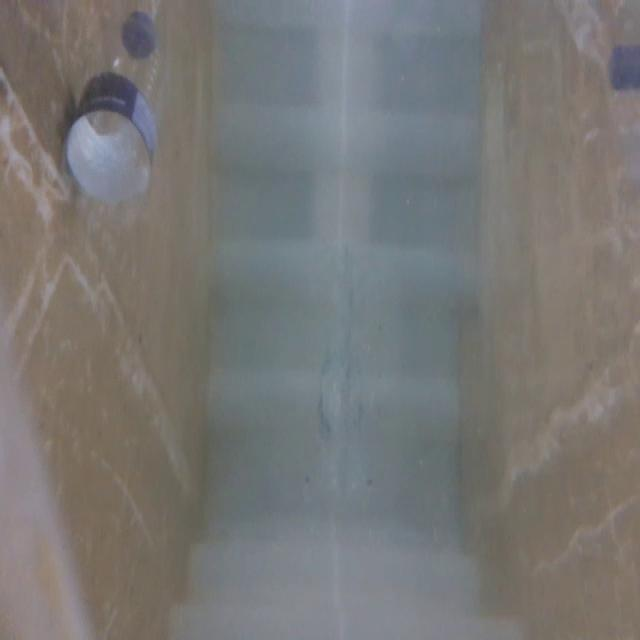plastic bottle: (62, 5, 172, 248)
